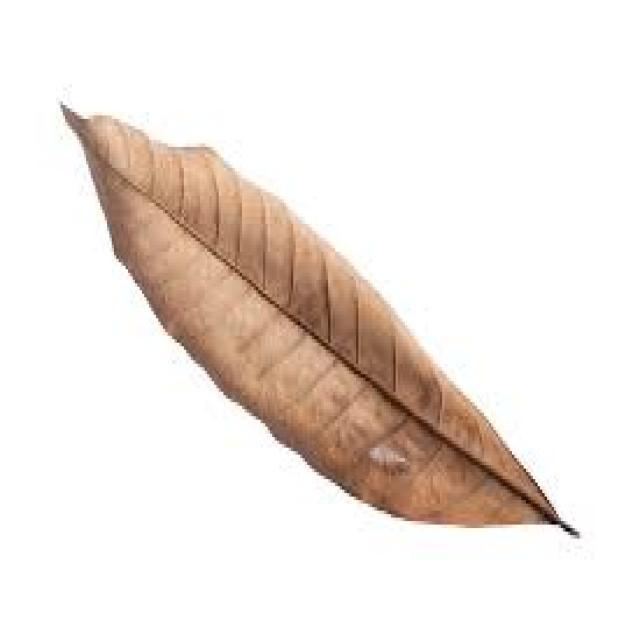leaf: (59, 100, 580, 537)
